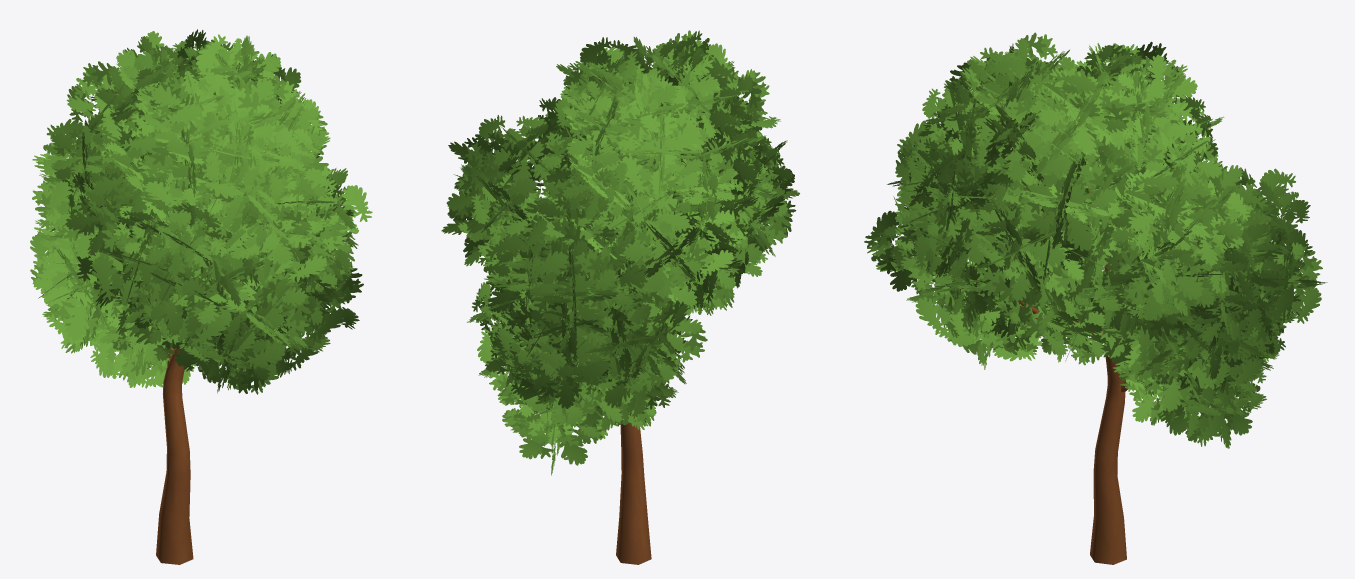
File: STOak3.glb
The picture shows the model from 3 angles, left to right: view 1: azimuth 30°, elevation 25°; view 2: azimuth 150°, elevation 25°; view 3: azimuth 270°, elevation 25°; orthographic projection. The views are drawn at different scales.
Parts seen in each view (by area): view 1: STOak3_Leaves, STOak3_Trunk; view 2: STOak3_Leaves, STOak3_Trunk; view 3: STOak3_Leaves, STOak3_Trunk.
Boxes of the visible parts, x1,y1,x2,y2 form: STOak3_Leaves: (30,29,372,394); STOak3_Trunk: (156,346,193,564); STOak3_Leaves: (441,30,799,475); STOak3_Trunk: (616,416,651,564); STOak3_Leaves: (864,32,1327,448); STOak3_Trunk: (1019,188,1209,564).
Bounding box in the file's own units: 12.04 × 19.41 × 16.27.
2 materials, 2 textured.
